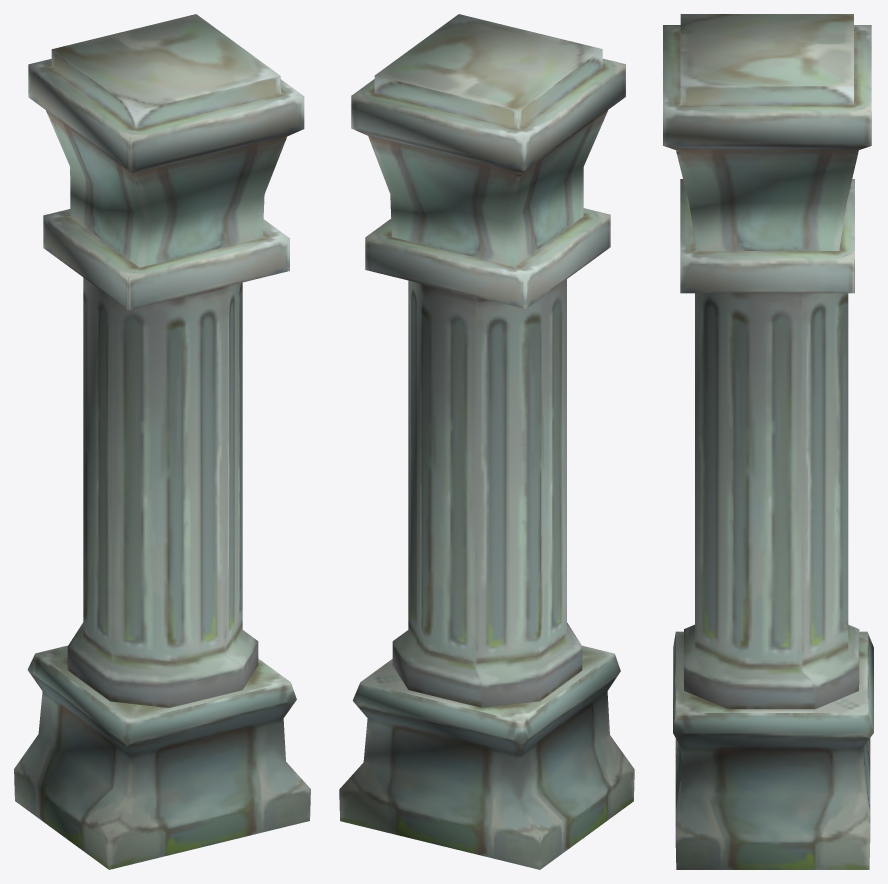
File: Map_06_pillars04.FBX
The picture shows the model from 3 angles, left to right: view 1: azimuth 30°, elevation 25°; view 2: azimuth 150°, elevation 25°; view 3: azimuth 270°, elevation 25°; orthographic projection. The views are drawn at different scales.
Parts seen in each view (by area): view 1: Map_06_pillars04; view 2: Map_06_pillars04; view 3: Map_06_pillars04.
Part boxes in pixels (bbox=[...]): Map_06_pillars04: bbox=[14, 14, 310, 869]; Map_06_pillars04: bbox=[339, 14, 634, 869]; Map_06_pillars04: bbox=[663, 14, 873, 869].
Bounding box in the file's own units: 172 × 151 × 609.
